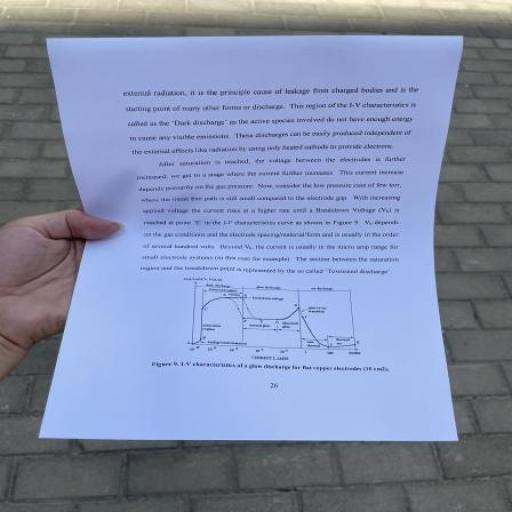paper: (16, 13, 480, 478)
